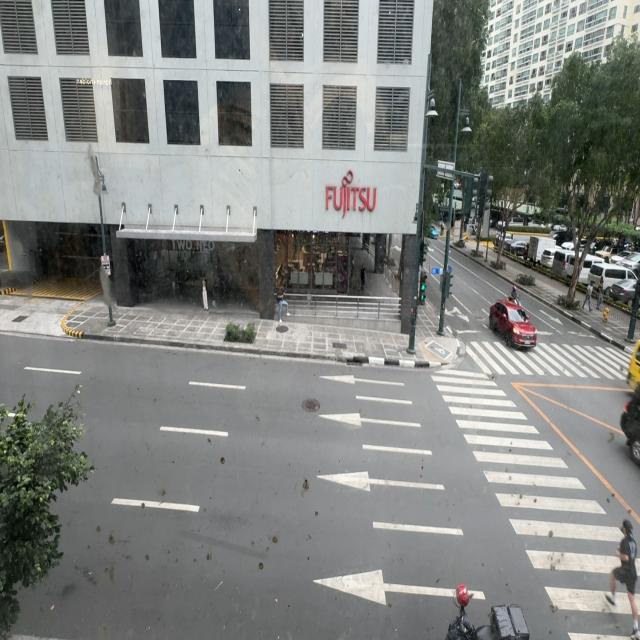crossing: (607, 514, 640, 628)
pedestrain: (277, 285, 289, 323), (582, 281, 593, 311), (596, 280, 604, 312), (202, 276, 208, 311), (360, 265, 366, 291)
